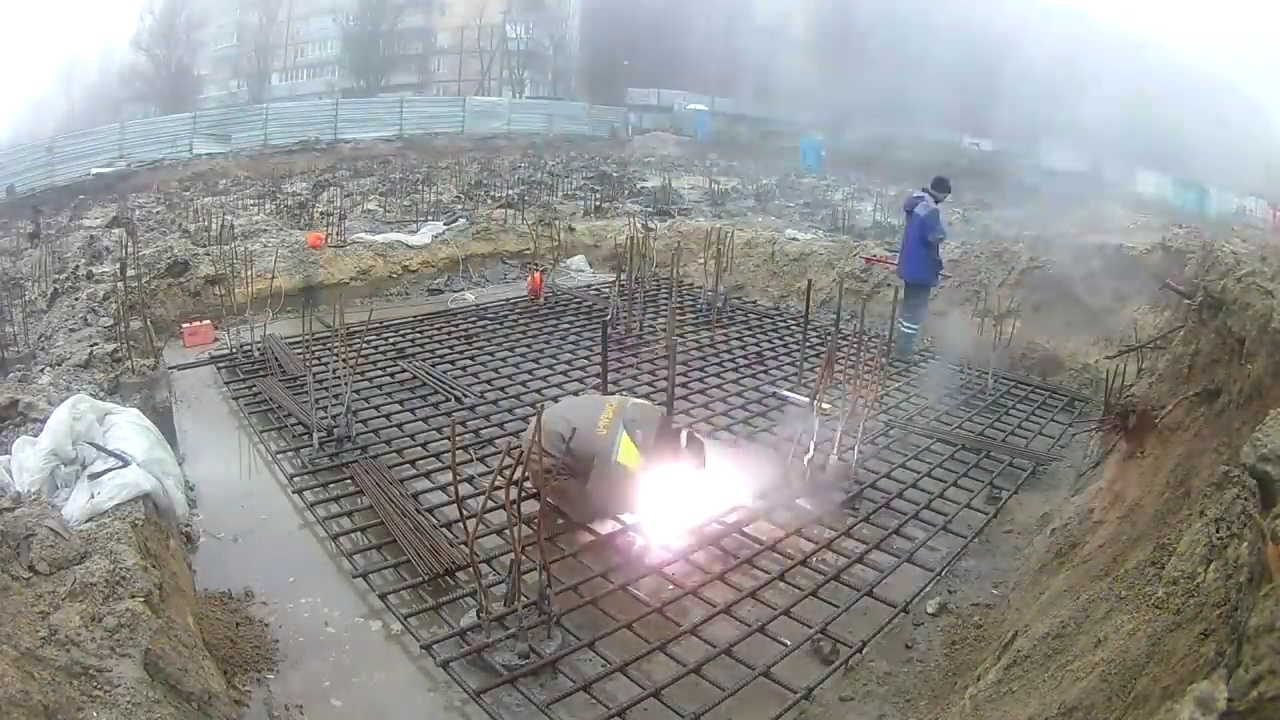helmet: (523, 269, 544, 304), (305, 231, 325, 248)
helmet-off: (646, 409, 713, 484), (927, 179, 956, 208)
person: (525, 381, 709, 553), (880, 168, 960, 361)
